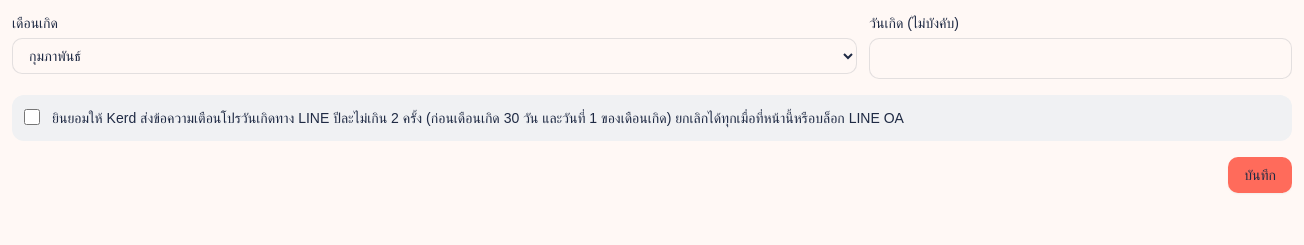
Test: ReminderForm › ข้อมูลไม่ถูกต้อง แจ้ง error
Click the button "บันทึก" at (1260, 175), box [1228,157,1292,193]
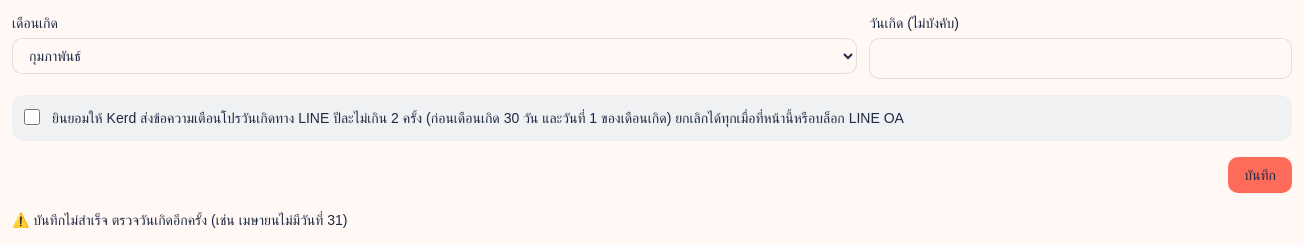
Now the message shows "ตรวจวันเกิด", box [33,212,348,228]
